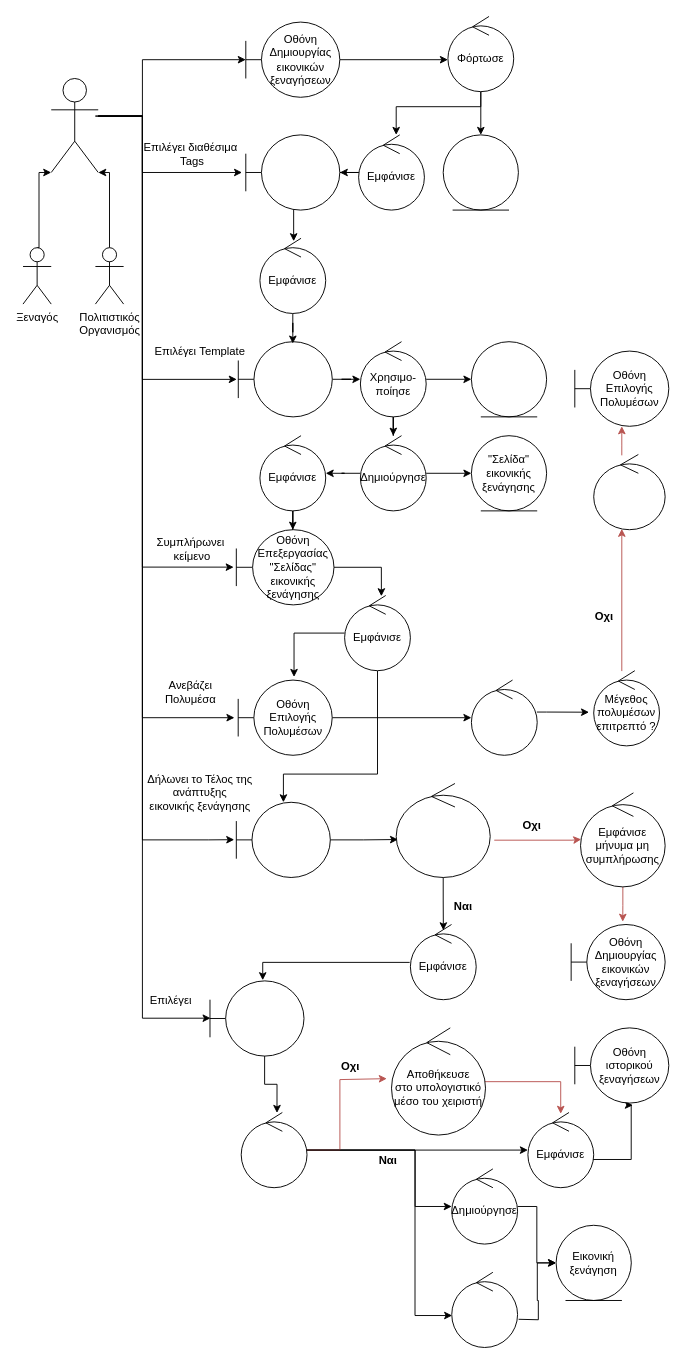
This 685x1364 diagram has some shape labels left out. The shapes that lost their labels are listed below. From the top down, each one's centre as x and y in pixels, then its label:
At point (74, 125): "Χειριστής".
At point (292, 172): "Πεδίο επιλογής tags".
At point (480, 172): "Tags".
At point (284, 379): "Οθόνη διαθέσιμων Templates".
At point (508, 379): "Template".
At point (629, 492): "Εμφάνισε μήνυμα μεγάλου μεγέθους".
At point (503, 717): "Ανέβασε πολυμέσα".
At point (282, 839): "Interface τερματισμού επεξεργασίας".
At point (442, 830): "Όλα τα πεδία ορθά συμπληρωμένα ?".
At point (256, 1018): "Οθόνη επιβεβαίωσης ανάρτησης".
At point (273, 1150): "Επιβεβαιωσε ο χειριστής;".
At point (484, 1309): "Αποθήκευσε".
